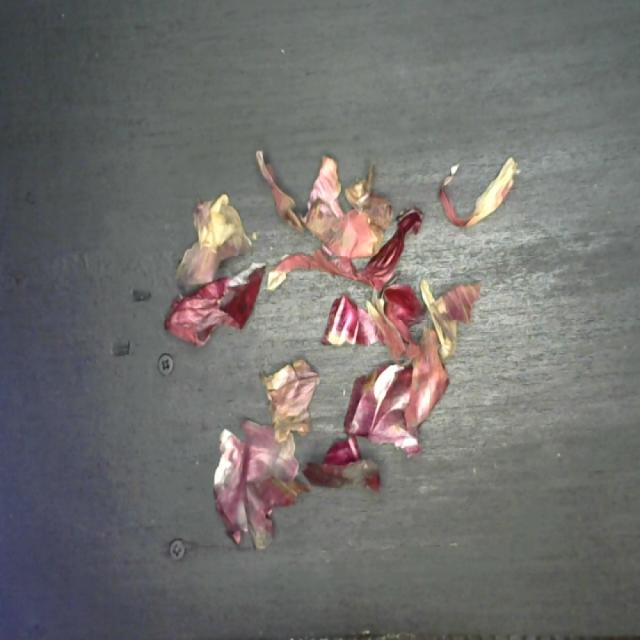biodegradable: (160, 137, 521, 557)
